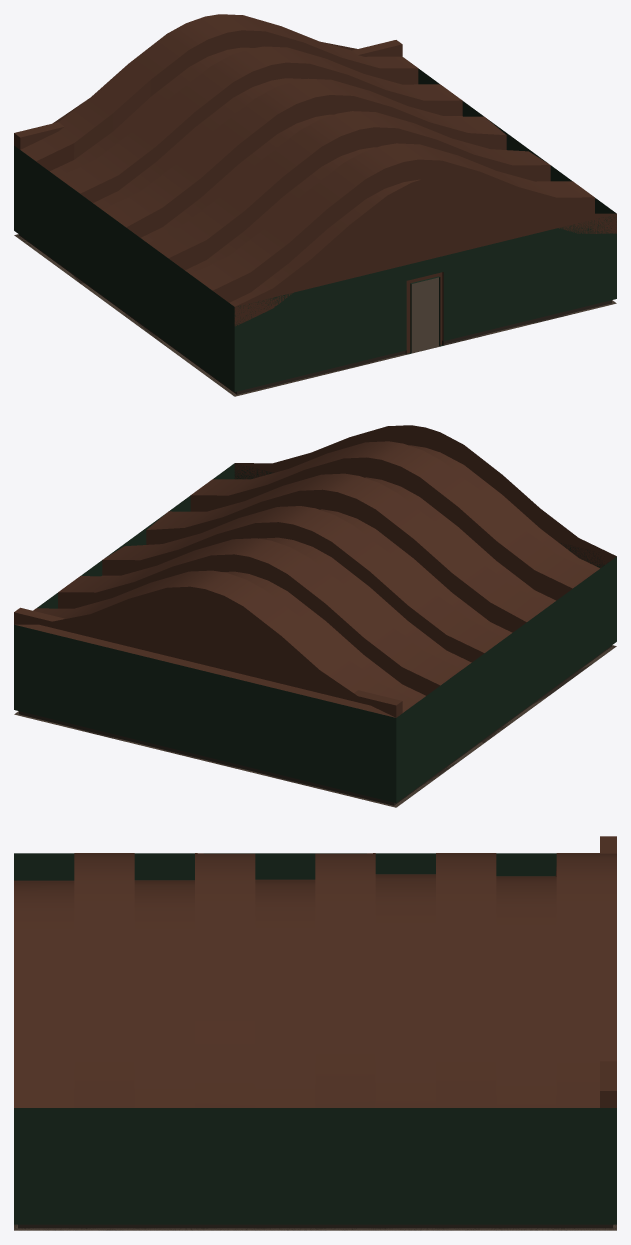
The model's file is Ambiente1.fbx.
The picture shows the model from 3 angles, top to bottom: view 1: azimuth 30°, elevation 25°; view 2: azimuth 150°, elevation 25°; view 3: azimuth 270°, elevation 25°; orthographic projection. The views are drawn at different scales.
Parts seen in each view (by area): view 1: ambiente_1; view 2: ambiente_1; view 3: ambiente_1.
Boxes of the visible parts, left/top/right/bottom form: ambiente_1: left=14, top=14, right=616, bottom=396; ambiente_1: left=14, top=425, right=616, bottom=807; ambiente_1: left=14, top=836, right=616, bottom=1230.
Bounding box in the file's own units: 1210 × 520 × 1210.
